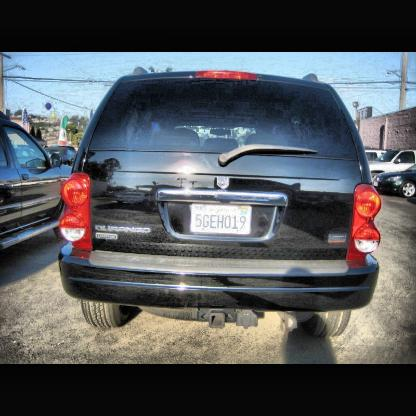Dodge Durango SUV 2007: (61, 71, 382, 341)
